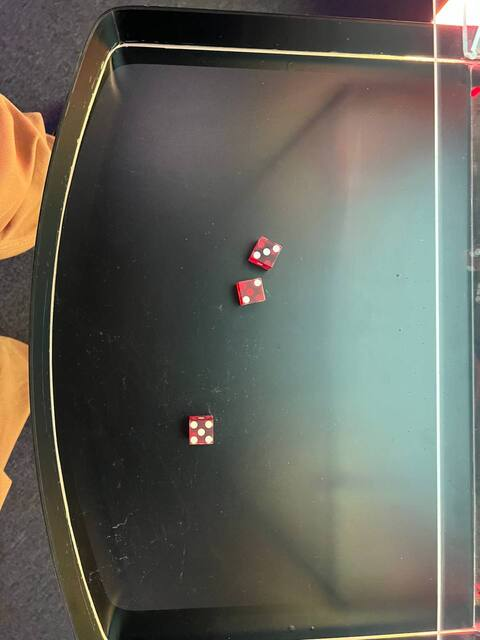five: (183, 416, 218, 451)
three: (246, 233, 285, 270)
two: (231, 274, 270, 311)
